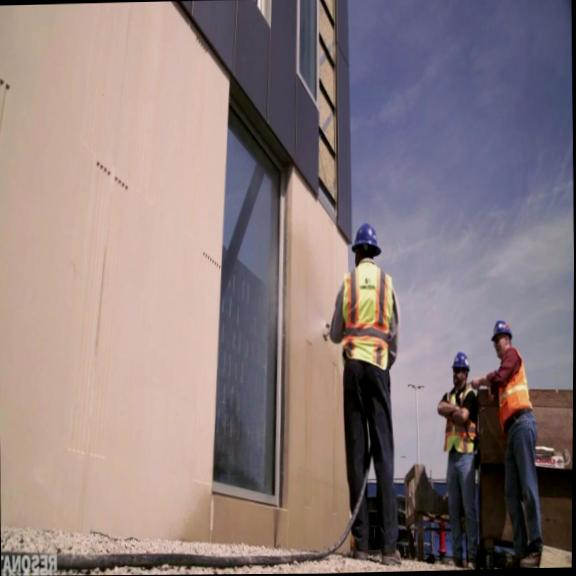safety_vest: (339, 259, 395, 372), (494, 345, 535, 436), (441, 382, 478, 453)
